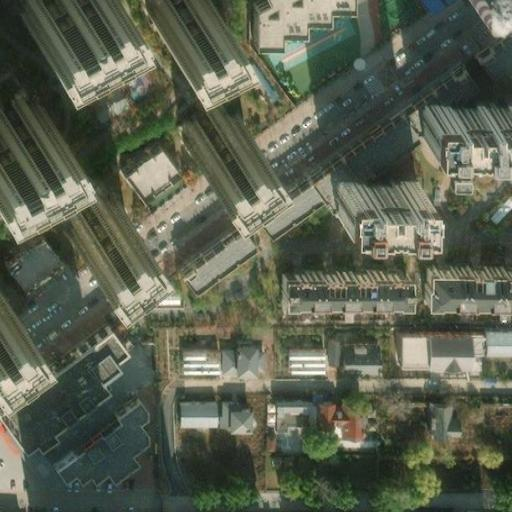building: (176, 103, 414, 288), (0, 318, 115, 452), (44, 402, 143, 481), (249, 0, 349, 51), (272, 261, 400, 294), (419, 256, 512, 296), (324, 177, 416, 216), (54, 181, 116, 238), (170, 86, 232, 142), (1, 233, 55, 289), (395, 336, 478, 370), (121, 148, 174, 198), (414, 100, 469, 143), (268, 399, 312, 447), (419, 73, 471, 109), (312, 399, 361, 437), (321, 337, 372, 369), (484, 23, 512, 72), (423, 403, 451, 444), (212, 344, 250, 374), (173, 344, 212, 370), (169, 397, 209, 421), (478, 327, 512, 355), (282, 348, 321, 369), (220, 400, 243, 430), (474, 400, 512, 417)
